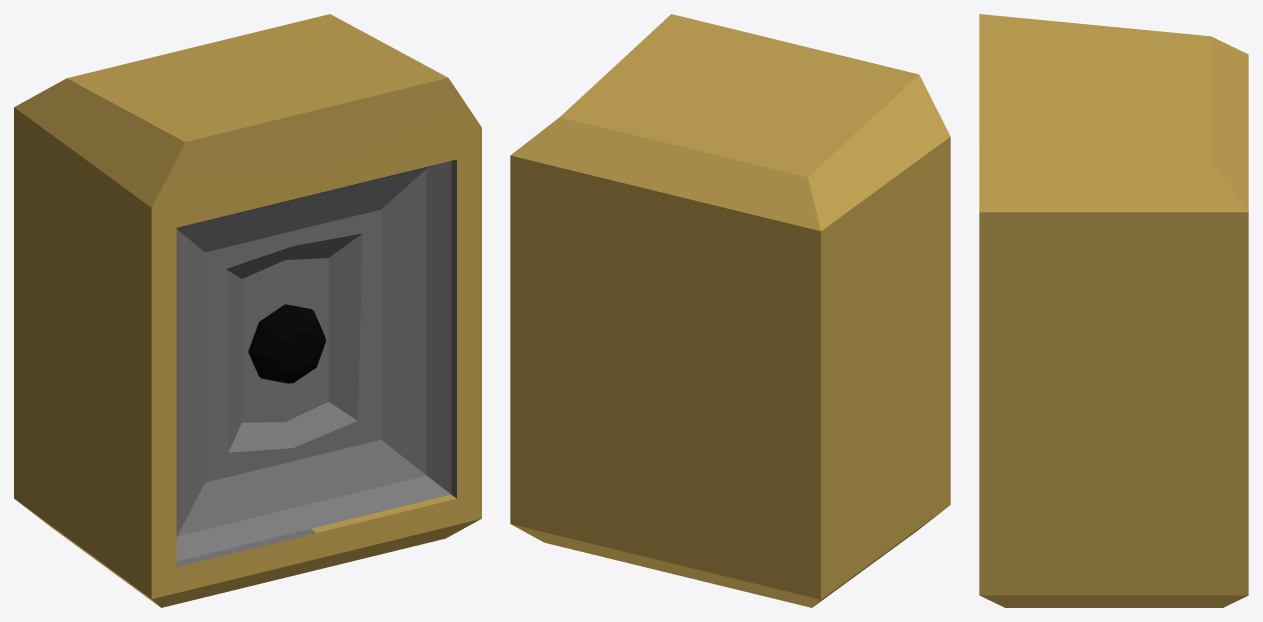
The model's file is caixaDeSom.fbx.
3 renders of one model, left to right at view 1: azimuth 30°, elevation 25°; view 2: azimuth 150°, elevation 25°; view 3: azimuth 270°, elevation 25°, orthographic. The views are drawn at different scales.
Visible parts, largest first — view 1: Cube.001; view 2: Cube.001; view 3: Cube.001.
Part boxes in pixels (bbox=[...]): Cube.001: bbox=[14, 14, 481, 607]; Cube.001: bbox=[510, 14, 950, 607]; Cube.001: bbox=[979, 14, 1248, 607].
Bounding box in the file's own units: 107 × 146 × 77.12.
